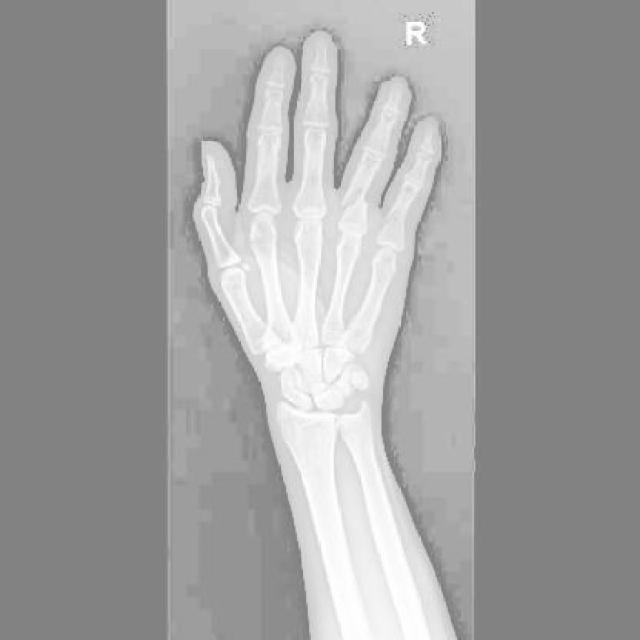Fracture: (339, 185, 368, 211)
